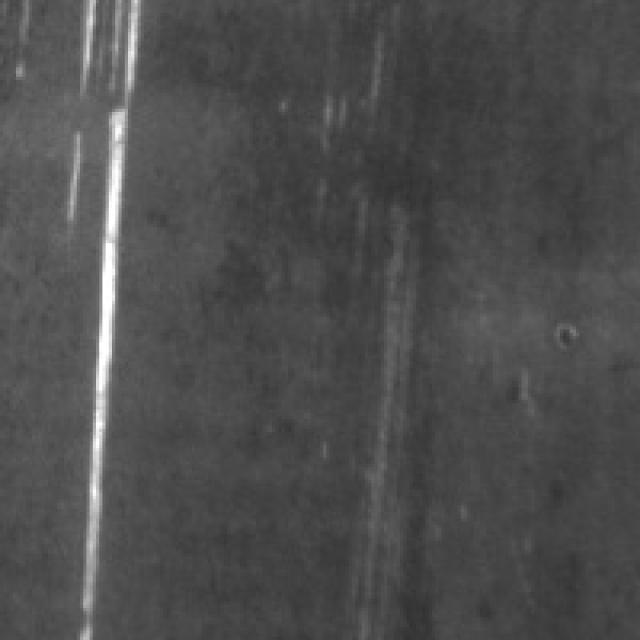scratches: (64, 0, 141, 637)
